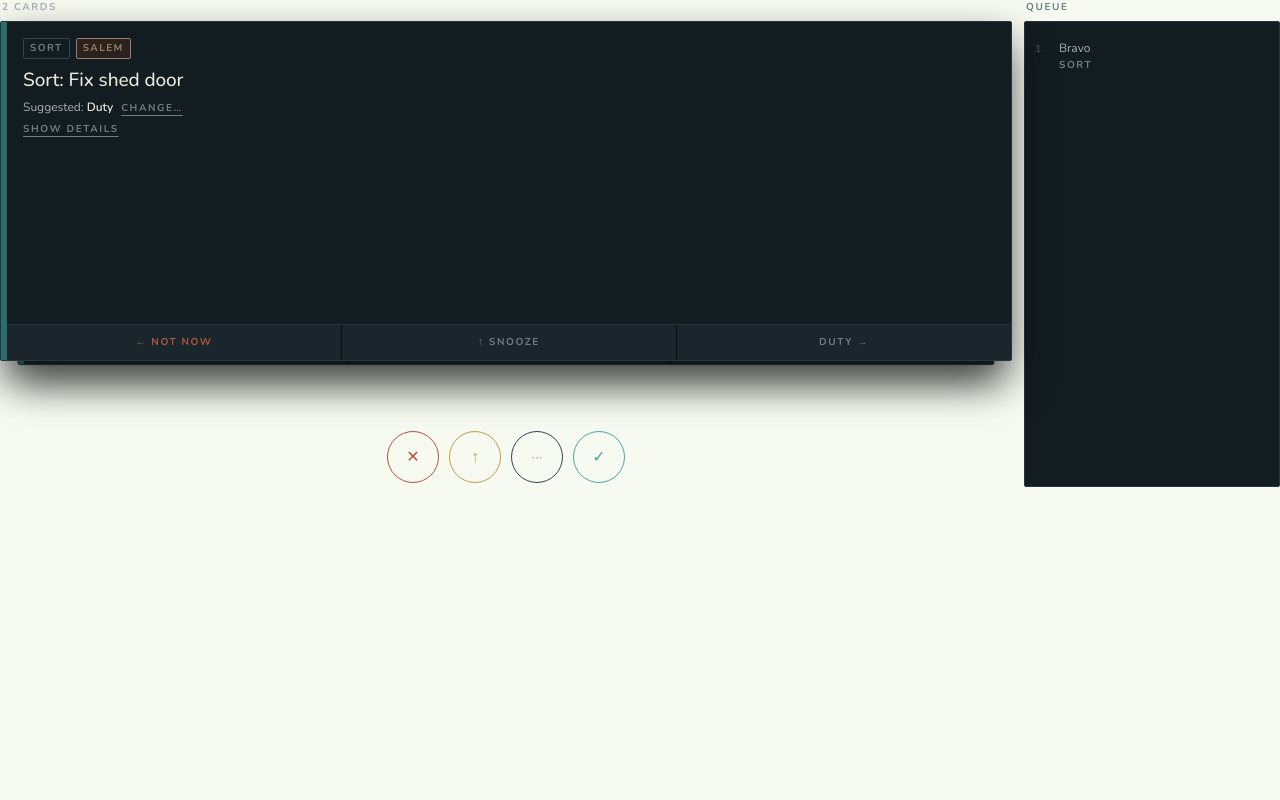
Test: the affirm hold-selector › a pick is undoable exactly like a swipe — Undo cancels the POST
This screenshot has width=1280, height=800.
Press the mouse on the element with test id "deck-card" at (506, 191), box [0,21,1012,361]
Wait 450 ms
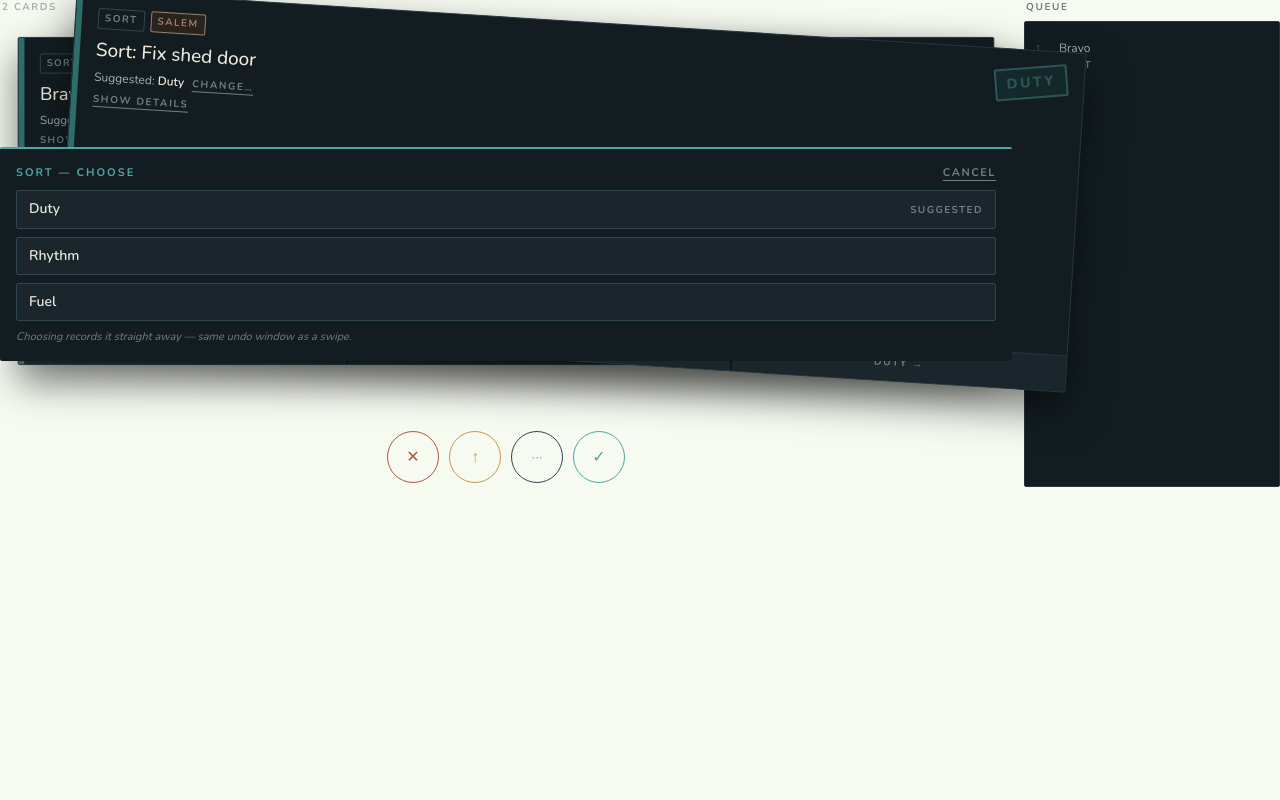
Click the button with test id "deck-hold-choice-sort_rhythm". click: (54, 255)
box: [16,236,996,274]
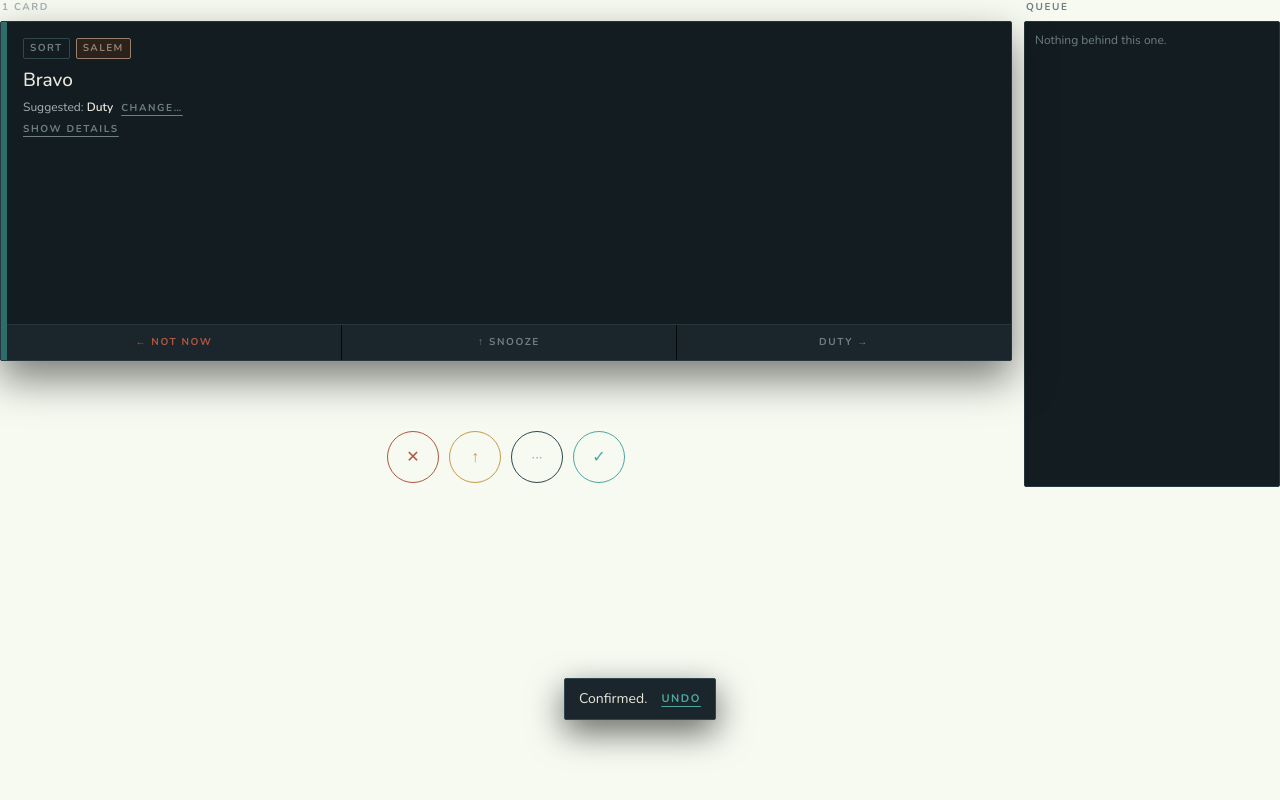
Click the button with test id "deck-toast-undo". click: (681, 699)
box: [661,689,701,709]
Wait 12000 ms
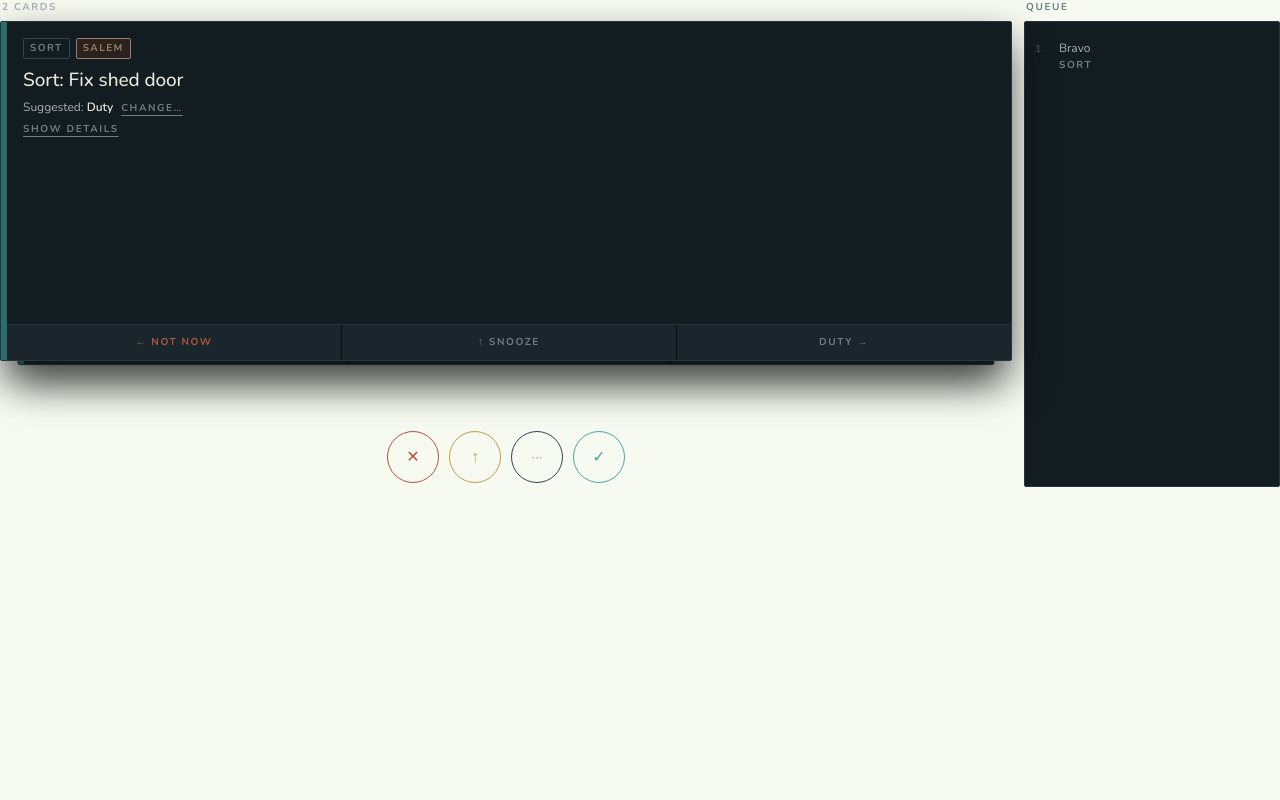
Result: the text with test id "deck-count" reads "2 cards" at [2,0,57,14]
